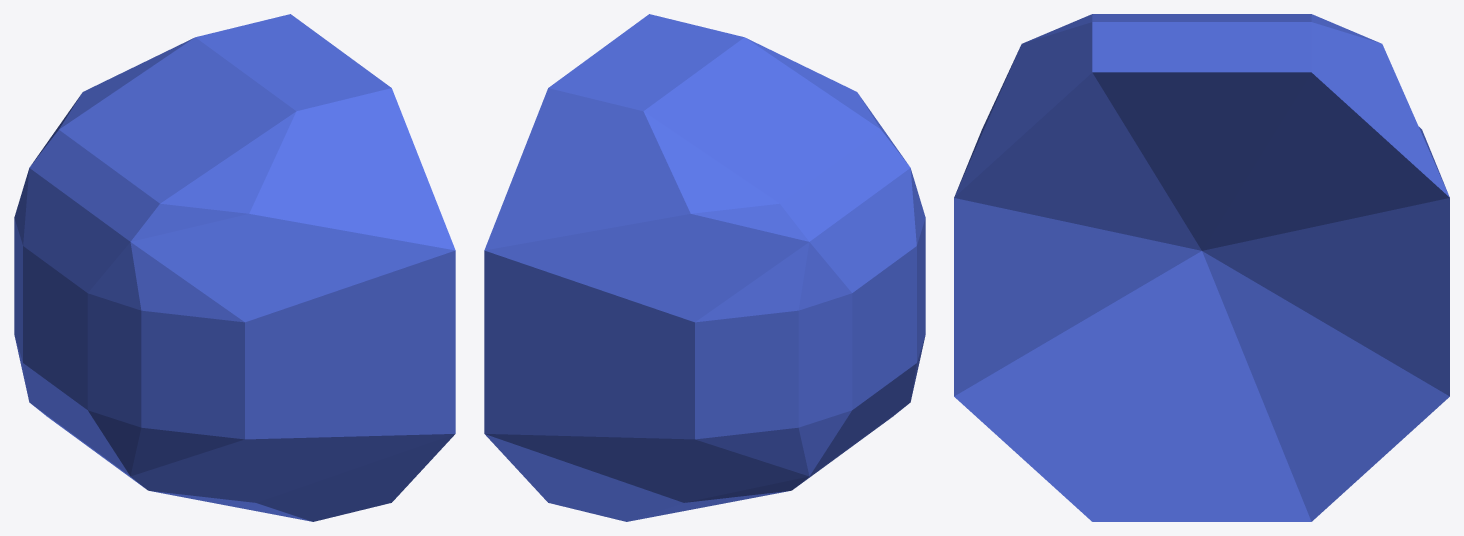
The model's file is arElement1.glb.
The picture shows the model from 3 angles, left to right: view 1: azimuth 30°, elevation 25°; view 2: azimuth 150°, elevation 25°; view 3: azimuth 270°, elevation 25°; orthographic projection. The views are drawn at different scales.
Parts seen in each view (by area): view 1: Cube; view 2: Cube; view 3: Cube.
Part boxes in pixels (x1,y1,x2,y2): Cube: (14,14,455,521); Cube: (484,14,925,521); Cube: (954,14,1449,521).
Size of the model in its own units: 5.77 by 8 by 8.
